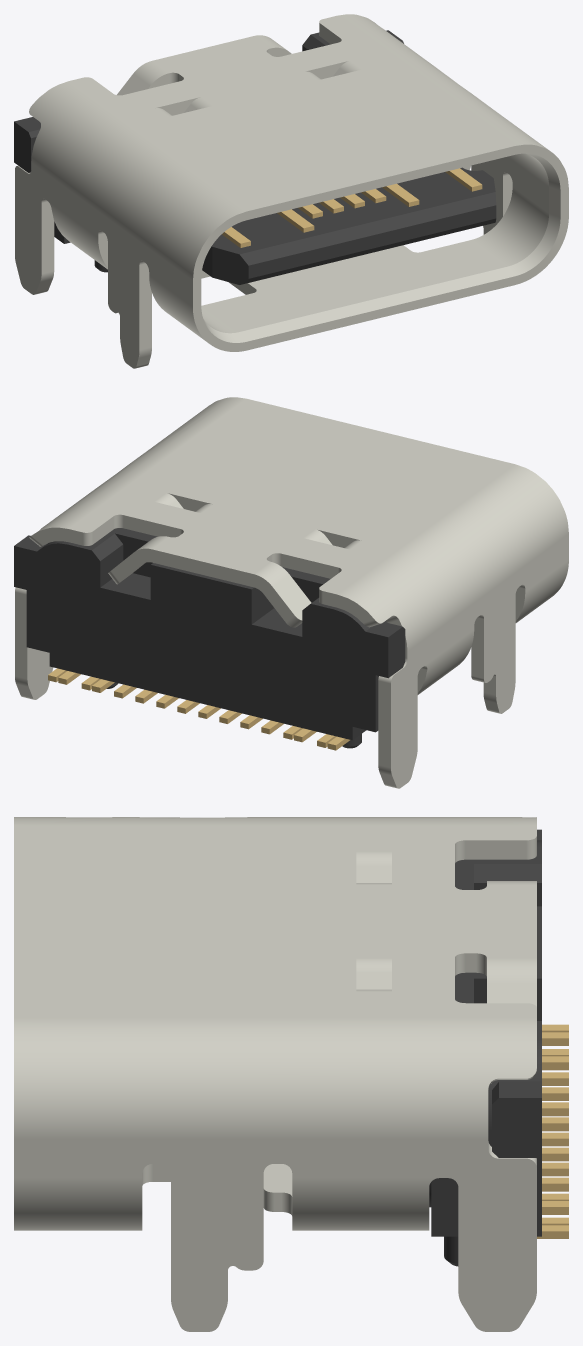
The model's file is usb_c_receptacle_gct_usb4105_xx_a_16p_topmnt_horizontal.glb.
The picture shows the model from 3 angles, top to bottom: view 1: azimuth 30°, elevation 25°; view 2: azimuth 150°, elevation 25°; view 3: azimuth 270°, elevation 25°; orthographic projection. The views are drawn at different scales.
Visible parts, largest first — view 1: conn_usbc; view 2: conn_usbc; view 3: conn_usbc.
Boxes of the visible parts, x1,y1,x2,y2 form: conn_usbc: (14, 14, 568, 368); conn_usbc: (14, 397, 568, 788); conn_usbc: (14, 817, 568, 1331).
Bounding box in the file's own units: 0.00894 × 0.00426 × 0.00778.
